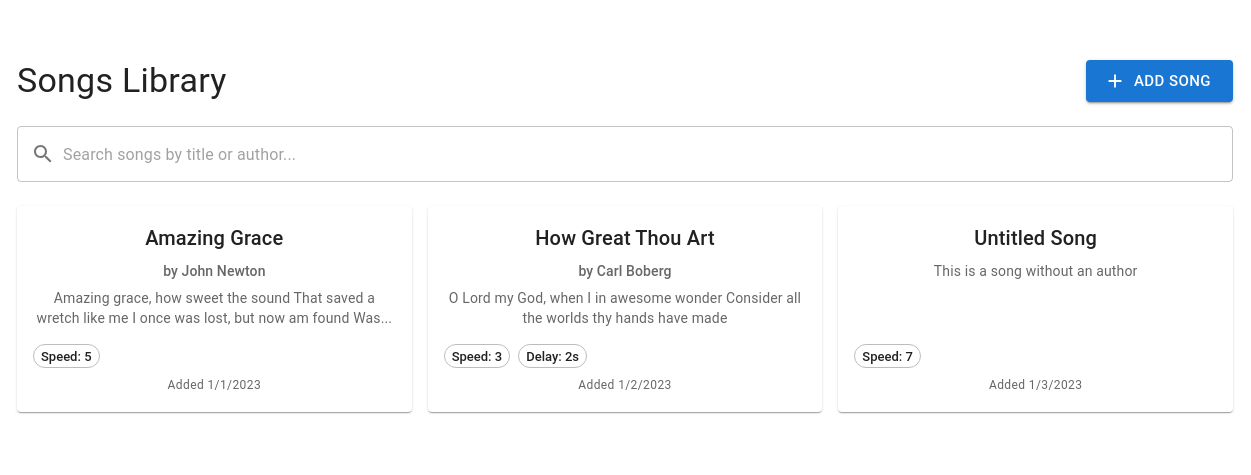
SongsListPage › Search Functionality › should handle multiple search results
In the field with placeholder "Search songs by title or author...": (648, 154) x1=63 y1=126 x2=1233 y2=182, type "Great"
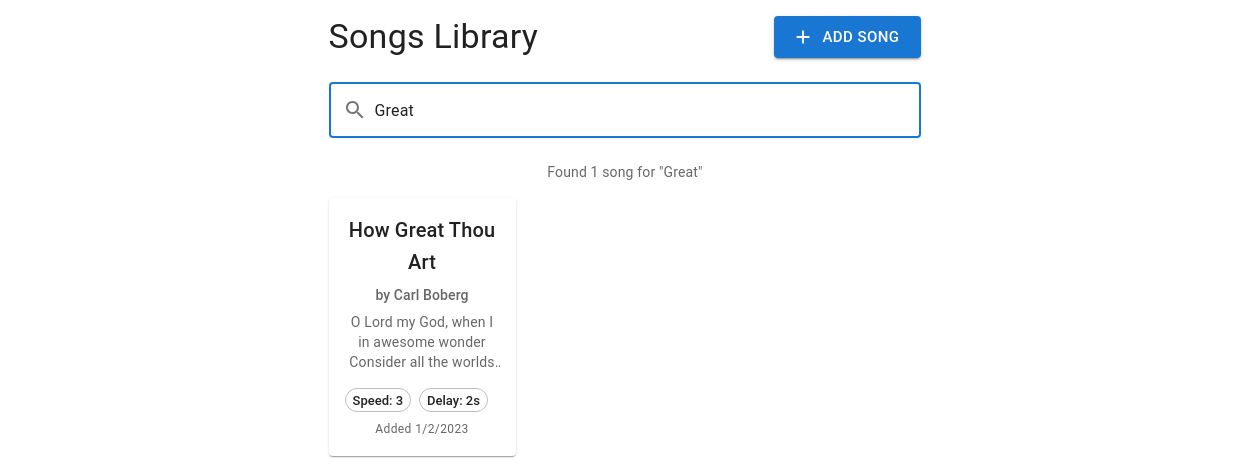
Expected: the heading "How Great Thou Art" is shown, x1=344 y1=214 x2=500 y2=278
Result: the button "Amazing Grace" is gone
Result: the text "Found 1 song for \"Great\"" is shown at x1=547 y1=164 x2=703 y2=180
